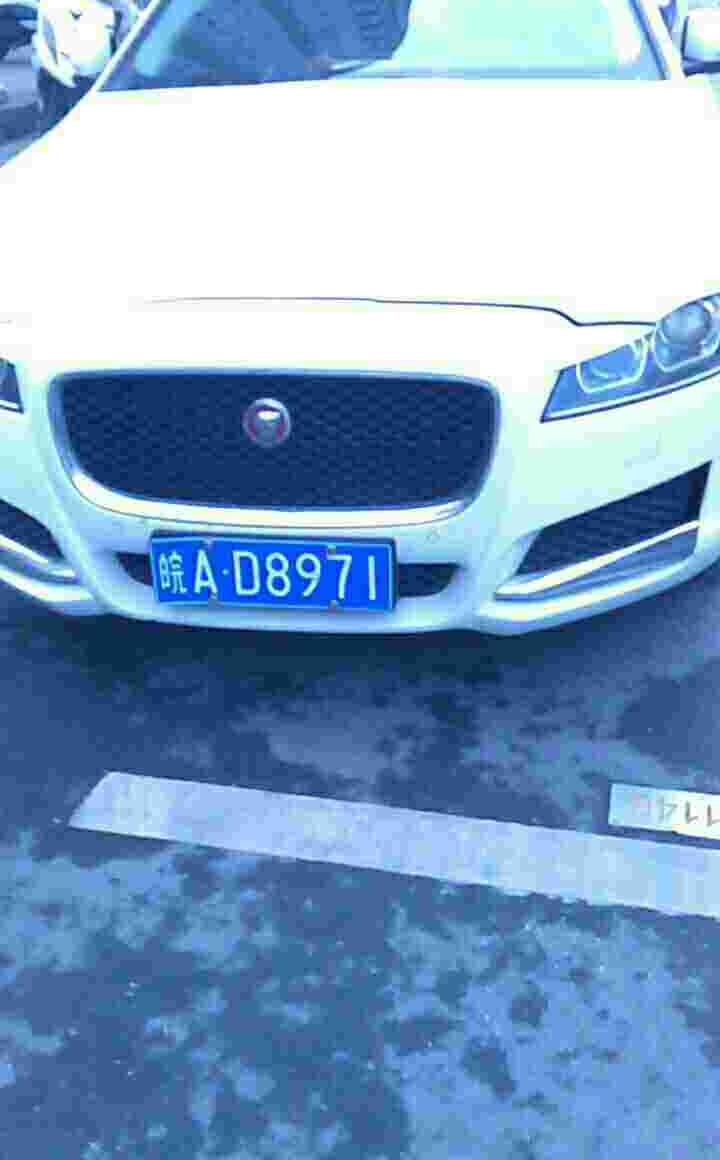plate: (153, 535, 399, 614)
